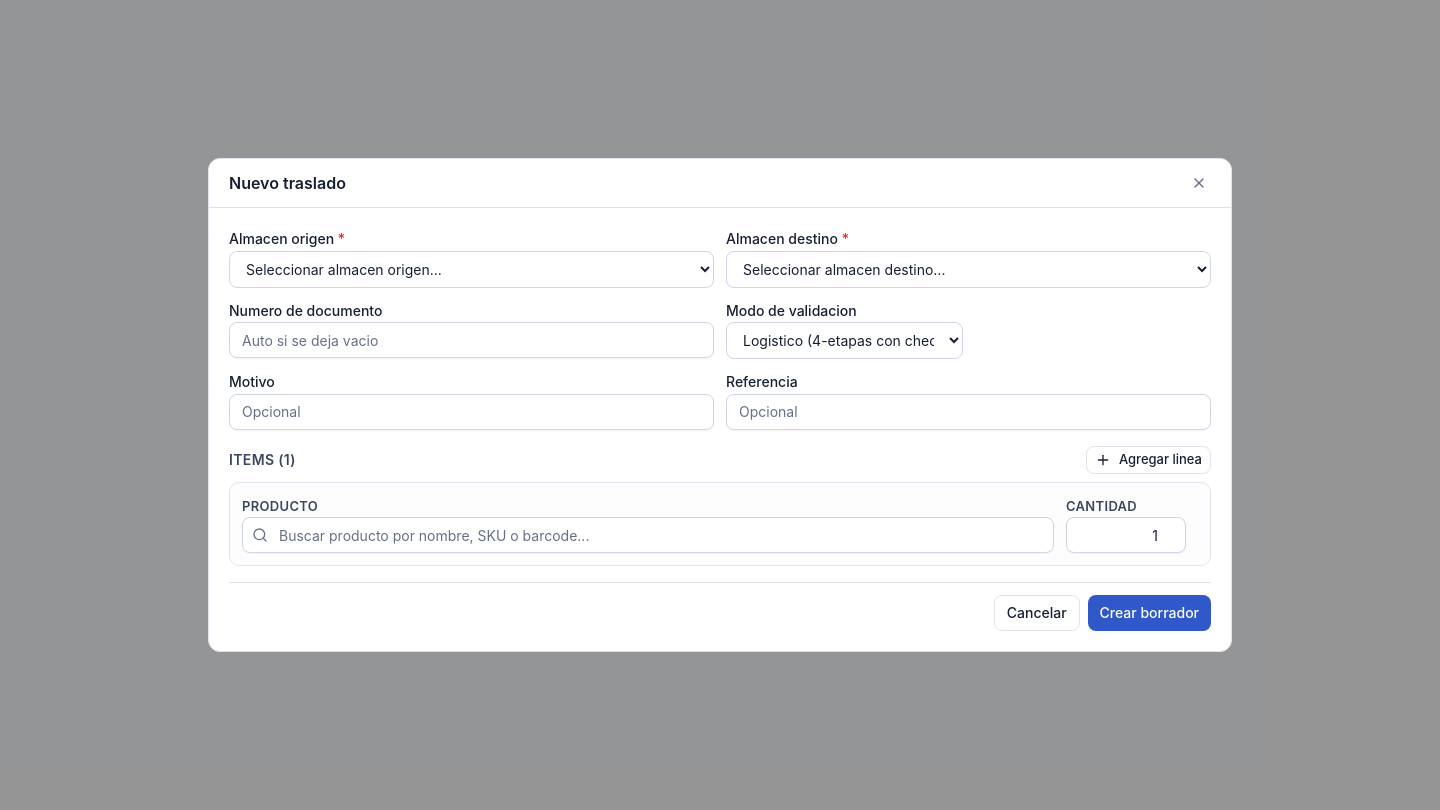
it: TransferCreateDialog › bloquea submit si falta almacen destino
The width and height of the screenshot is (1440, 810).
Select "WH-1 — Almacen 1" in the dropdown labelled "Almacen origen *" at (472, 269), box x1=229 y1=251 x2=714 y2=288
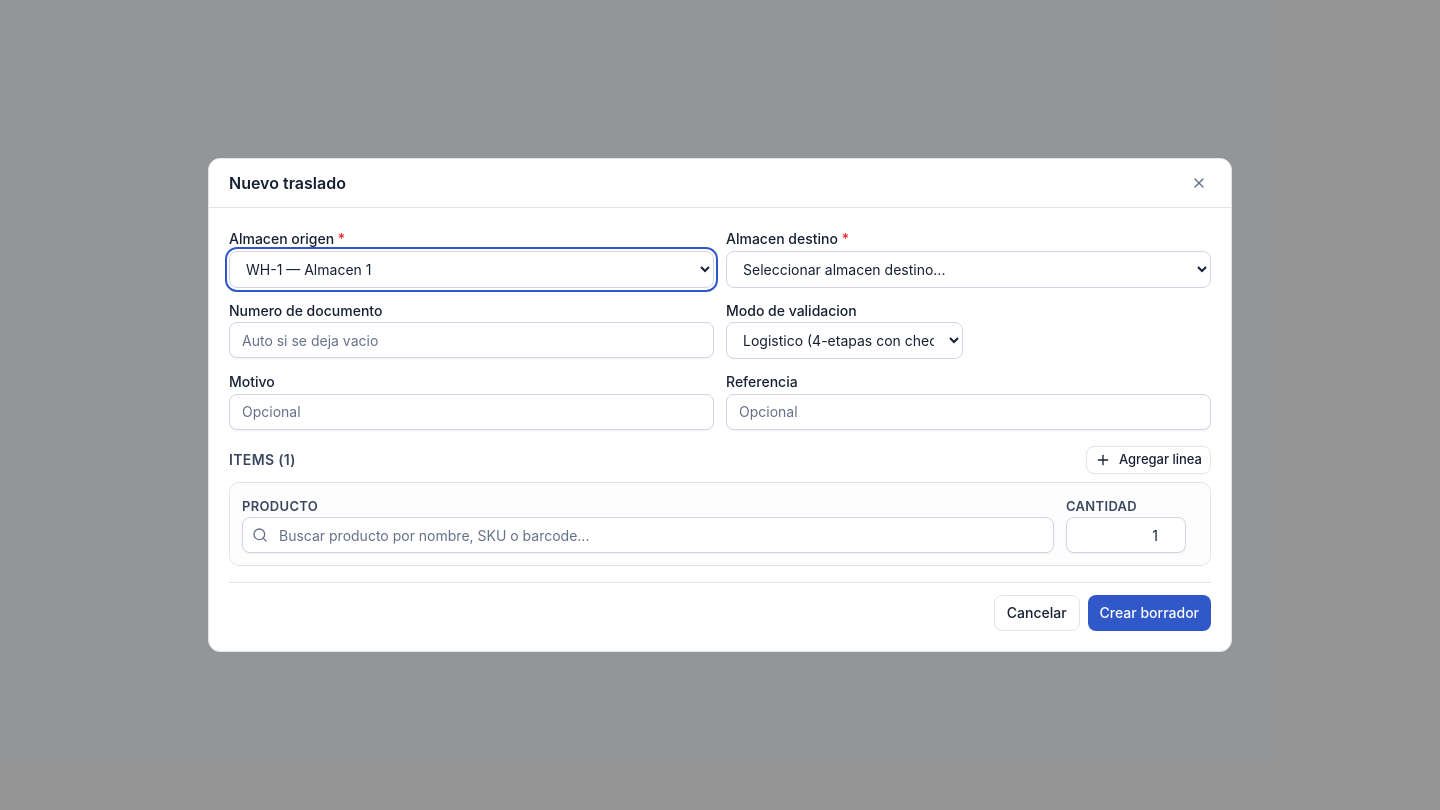
Type "PRODUCTO A" into the field named "Buscar producto de la linea 1" at (648, 535), box x1=242 y1=517 x2=1054 y2=553
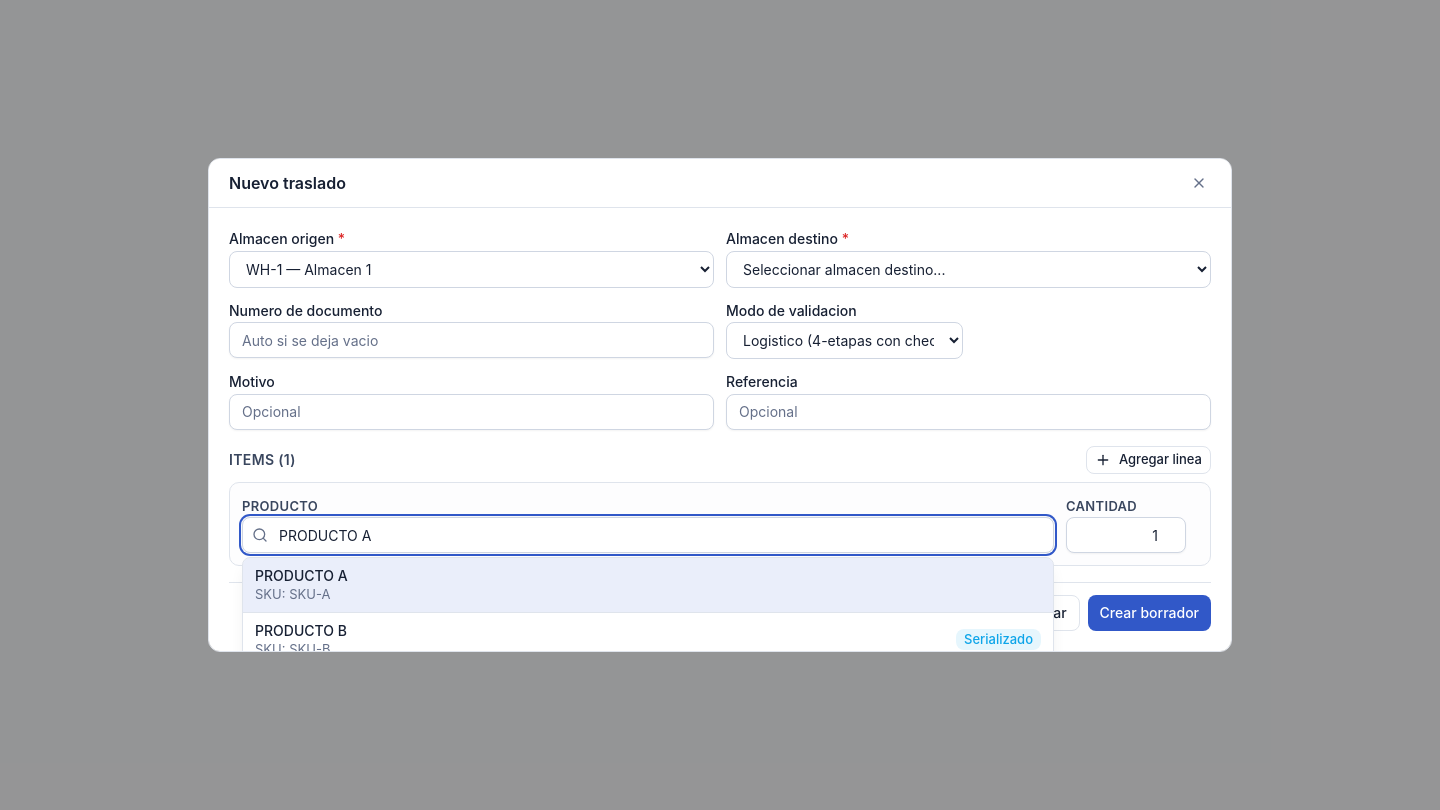
Click the option "PRODUCTO A SKU: SKU-A" at (301, 576), box x1=243 y1=558 x2=1053 y2=613
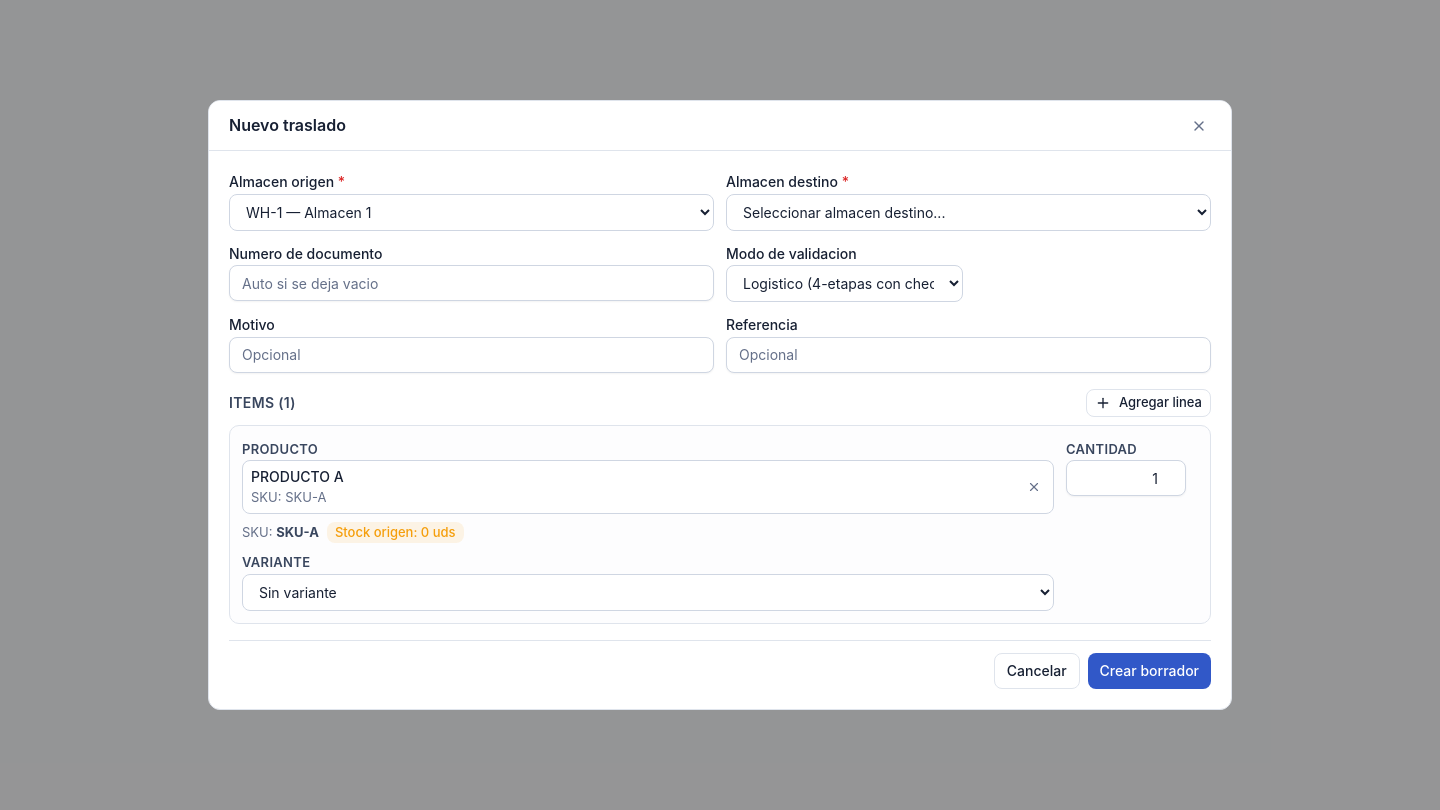
Click the button "Crear borrador" at (1149, 670), box x1=1088 y1=652 x2=1211 y2=688
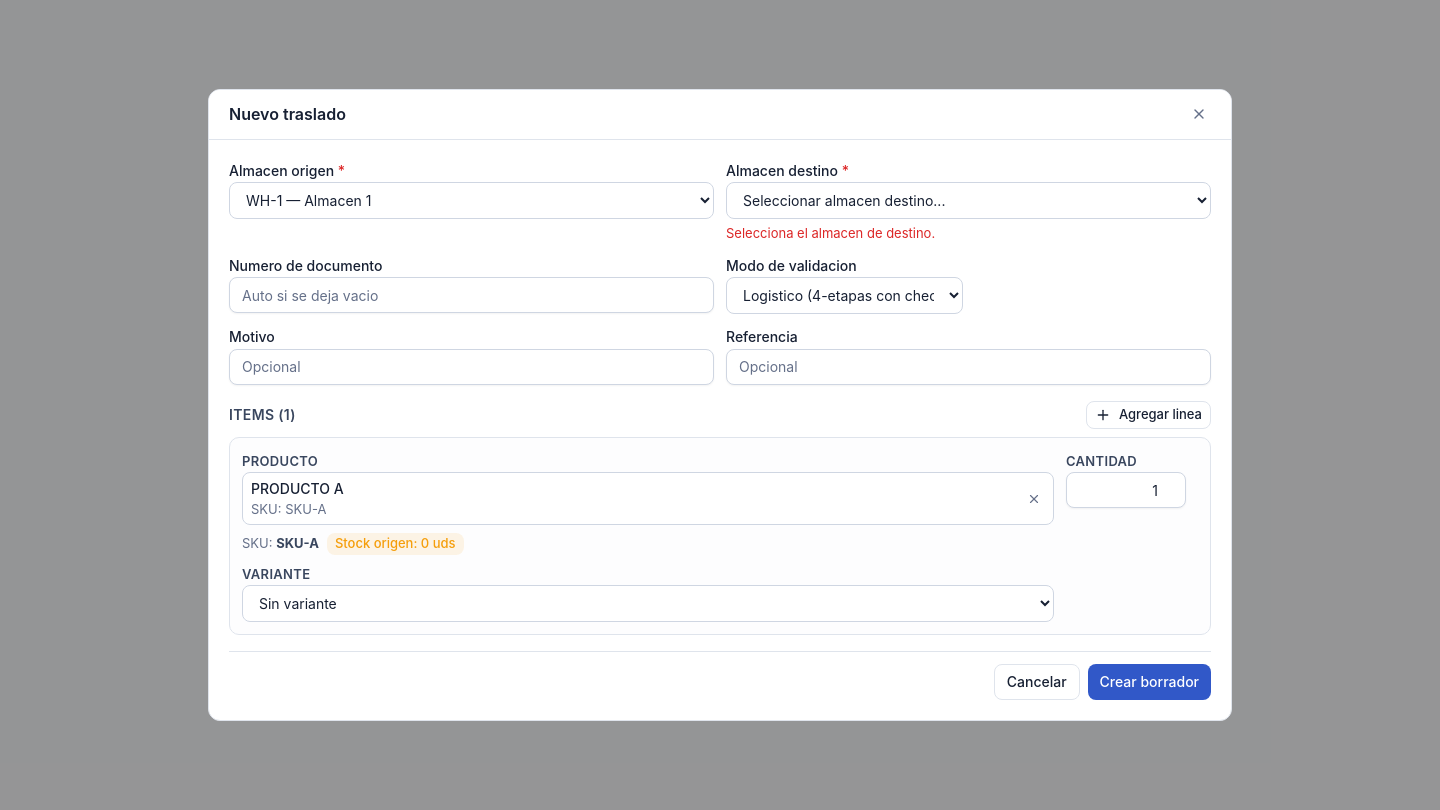
Now the text "Selecciona el almacen de destino." is shown, box x1=726 y1=225 x2=935 y2=241
